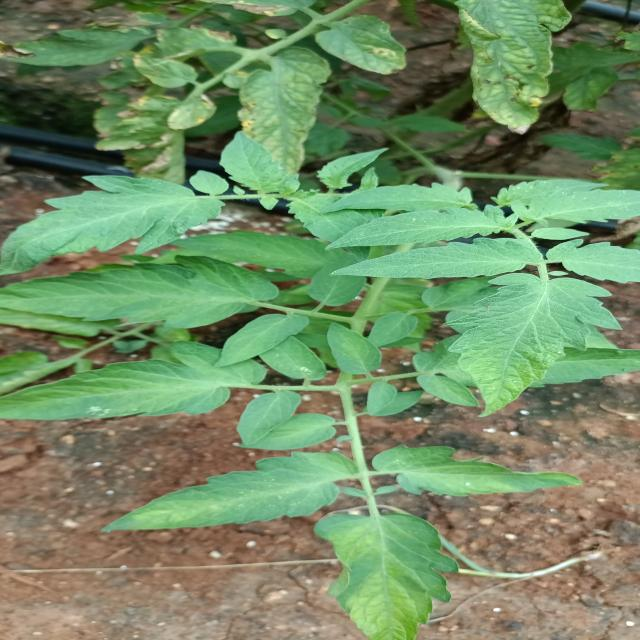Healthy Leaf: (437, 270, 629, 422), (94, 445, 350, 540), (1, 174, 213, 277), (1, 257, 277, 331), (5, 361, 258, 425), (367, 439, 612, 498), (337, 238, 535, 284), (319, 179, 484, 212), (324, 326, 397, 377)
